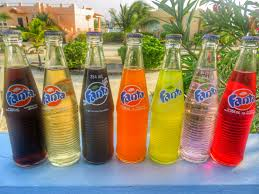fanta: (115, 34, 147, 161)
